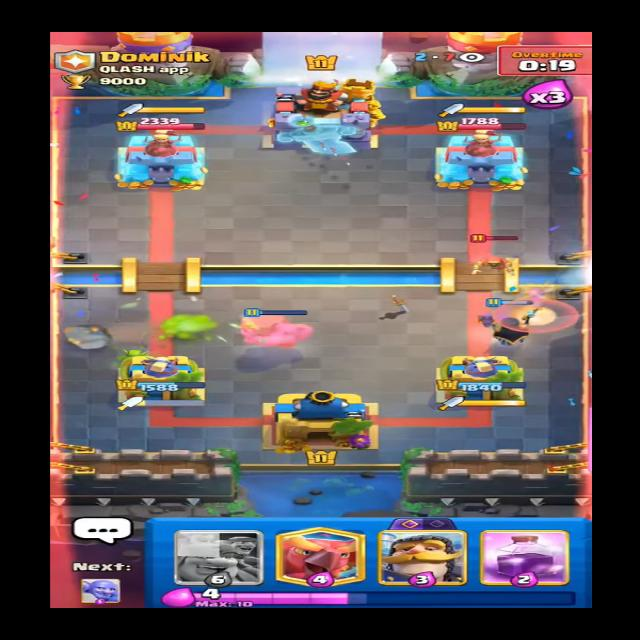arrows: (289, 134, 398, 184)
wizard: (468, 231, 526, 271)
